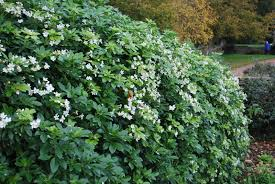flower: (51, 111, 60, 123), (60, 117, 65, 123)
